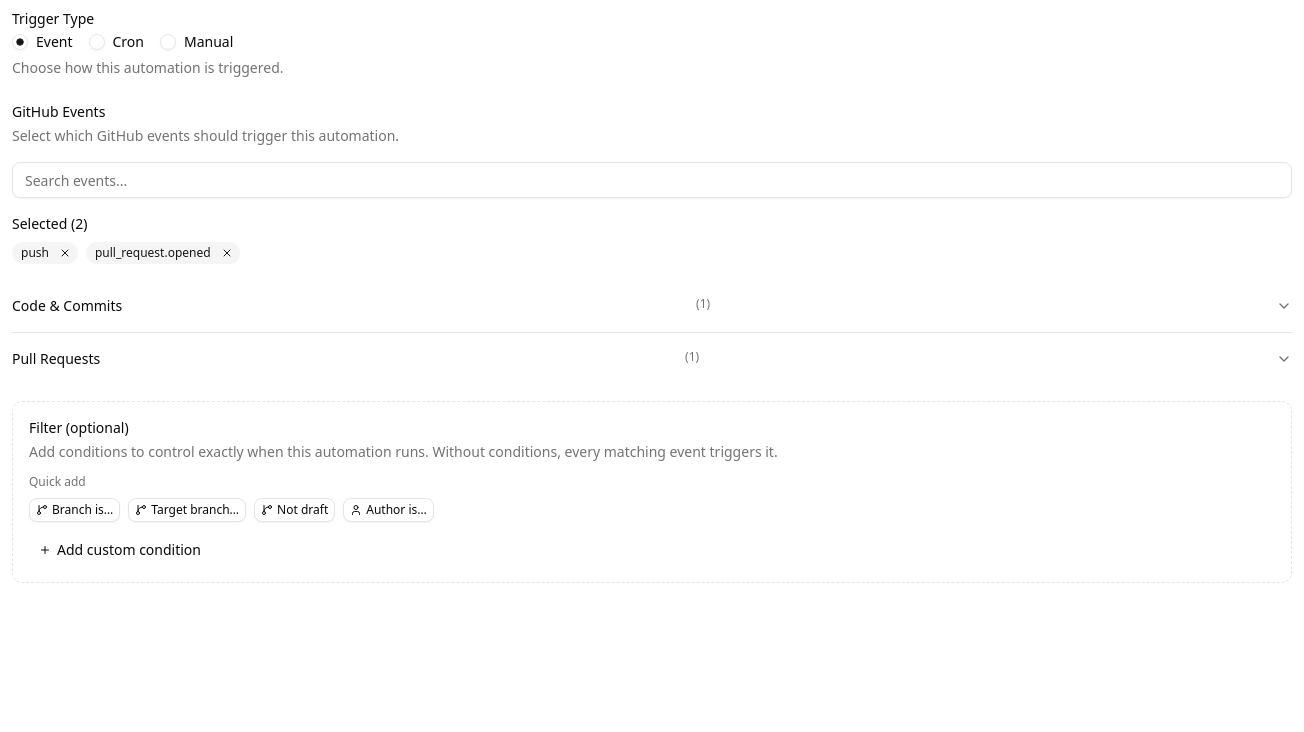
it: AutomationTriggerStep › Event trigger type › should remove an event via the remove badge button
Expected: the text "Selected (2)" is shown, 12,214 -> 87,233
Click the button named "Remove push" at {"x": 65, "y": 253}, box 57,245 -> 73,261
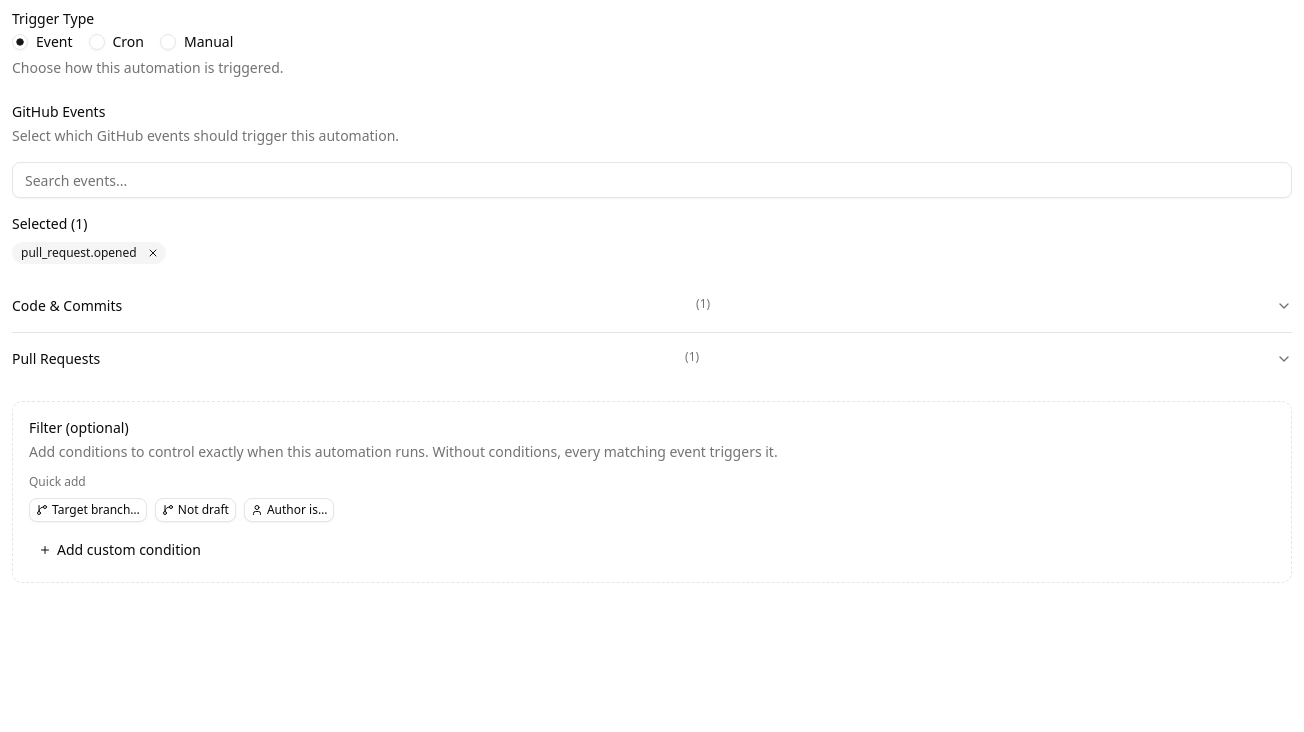
Expected: the text "Selected (1)" is shown, 12,214 -> 87,233
